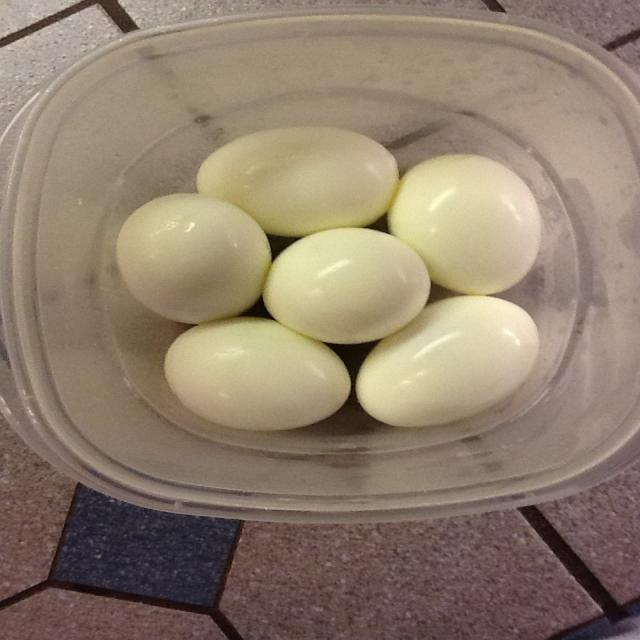egg boiled: (357, 296, 538, 427), (197, 127, 398, 236), (389, 155, 541, 294), (165, 318, 351, 430), (117, 194, 271, 323), (264, 228, 430, 343)
